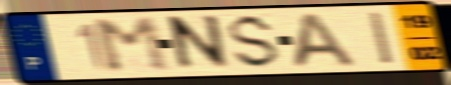1: (75, 21, 107, 71)
A: (289, 11, 361, 70)
I: (366, 9, 398, 67)
M: (89, 15, 175, 75)
N: (168, 12, 232, 74)
S: (228, 12, 284, 71)
